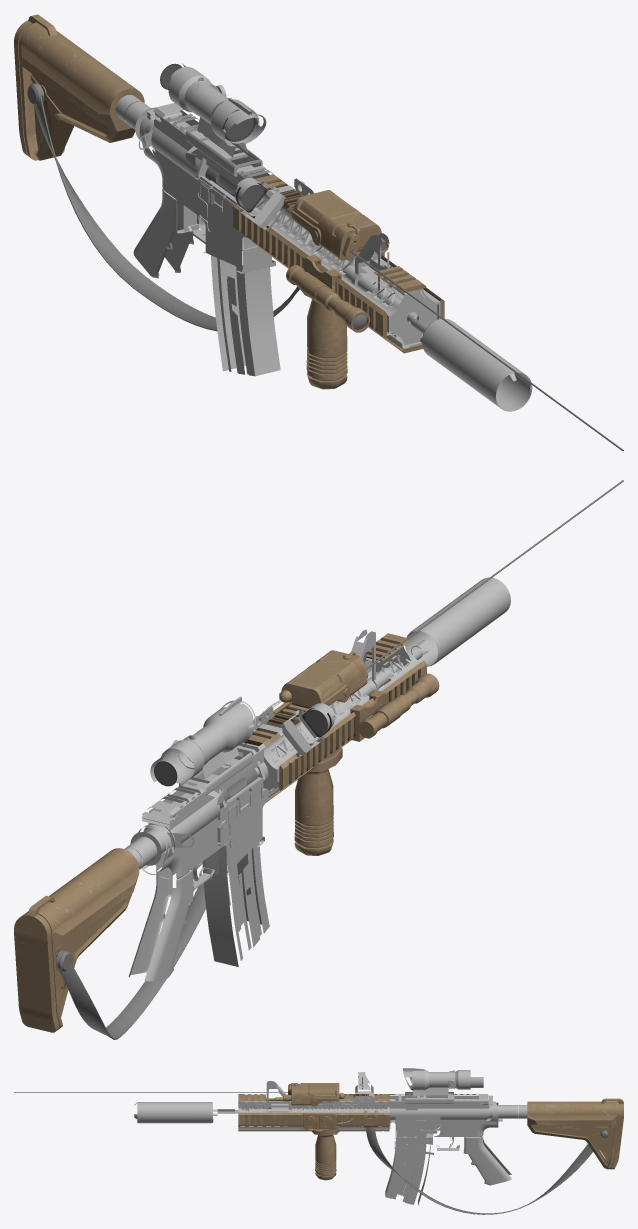
The model's file is m4final clean.obj.
3 renders of one model, top to bottom at view 1: azimuth 30°, elevation 25°; view 2: azimuth 150°, elevation 25°; view 3: azimuth 270°, elevation 25°, orthographic. The views are drawn at different scales.
Parts seen in each view (by area): view 1: Cylinder.044_Cylinder.044_Material.004, Cylinder.044_Cylinder.044_Material.005, Cylinder.044_Cylinder.044_Material.006, Cylinder.044_Cylinder.044_Material.008, Cylinder.044_Cylinder.044_Material.001; view 2: Cylinder.044_Cylinder.044_Material.004, Cylinder.044_Cylinder.044_Material.005, Cylinder.044_Cylinder.044_Material.006, Cylinder.044_Cylinder.044_Material.008; view 3: Cylinder.044_Cylinder.044_Material.004, Cylinder.044_Cylinder.044_Material.005, Cylinder.044_Cylinder.044_Material.006, Cylinder.044_Cylinder.044_Material.001.
Part boxes in pixels (box(x1,y1,x2,y2)): Cylinder.044_Cylinder.044_Material.004: box(115, 63, 532, 411); Cylinder.044_Cylinder.044_Material.005: box(14, 14, 444, 389); Cylinder.044_Cylinder.044_Material.006: box(27, 83, 299, 331); Cylinder.044_Cylinder.044_Material.008: box(160, 63, 266, 212); Cylinder.044_Cylinder.044_Material.001: box(350, 250, 623, 451); Cylinder.044_Cylinder.044_Material.004: box(124, 577, 510, 981); Cylinder.044_Cylinder.044_Material.005: box(14, 633, 439, 1032); Cylinder.044_Cylinder.044_Material.006: box(56, 846, 227, 1039); Cylinder.044_Cylinder.044_Material.008: box(154, 708, 331, 786); Cylinder.044_Cylinder.044_Material.004: box(134, 1068, 527, 1205); Cylinder.044_Cylinder.044_Material.005: box(238, 1083, 623, 1180); Cylinder.044_Cylinder.044_Material.006: box(366, 1127, 608, 1214); Cylinder.044_Cylinder.044_Material.001: box(14, 1092, 287, 1092).
Size of the model in its own units: 1.56 by 4.23 by 16.64.
8 materials, 3 textured.
